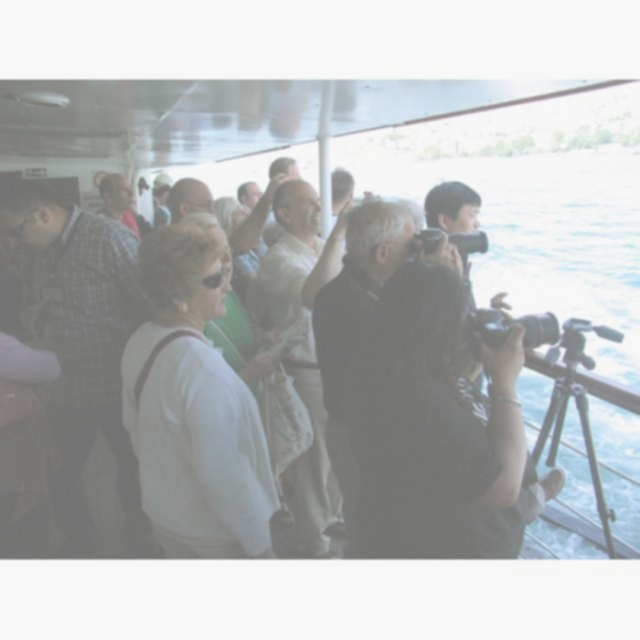pessoa: (113, 215, 300, 639), (339, 255, 554, 560), (306, 198, 468, 501), (254, 172, 371, 557), (178, 210, 288, 406), (175, 211, 289, 389), (0, 324, 62, 562), (165, 172, 292, 259), (418, 179, 484, 313), (211, 195, 264, 301), (260, 154, 306, 248), (91, 172, 142, 239), (319, 166, 356, 255), (258, 214, 288, 252), (148, 172, 176, 206), (236, 180, 264, 213)
